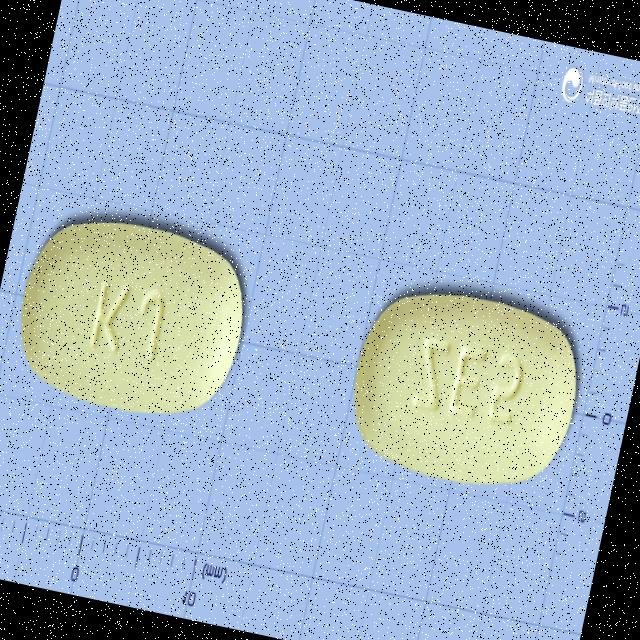Jecla: (4, 202, 260, 433), (338, 274, 594, 503)
